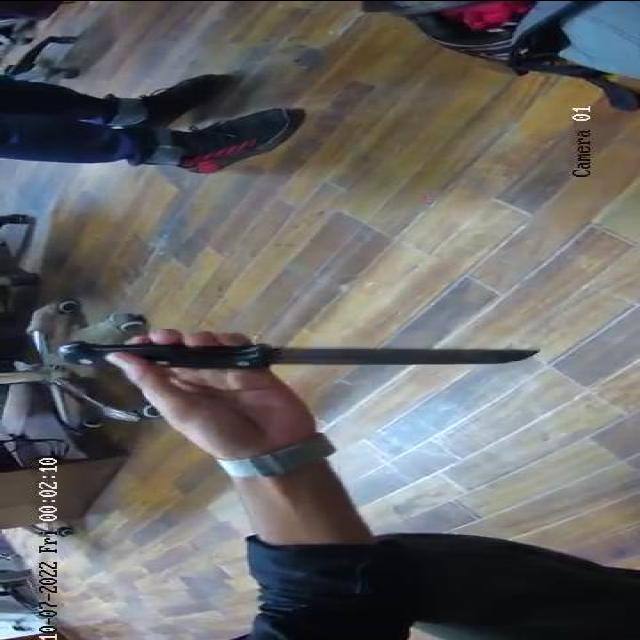Sharp-Object: (58, 330, 546, 371)
